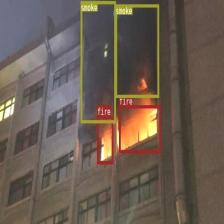fire: (119, 105, 160, 152), (97, 116, 113, 163)
smoke: (80, 1, 116, 122), (114, 4, 158, 97)
